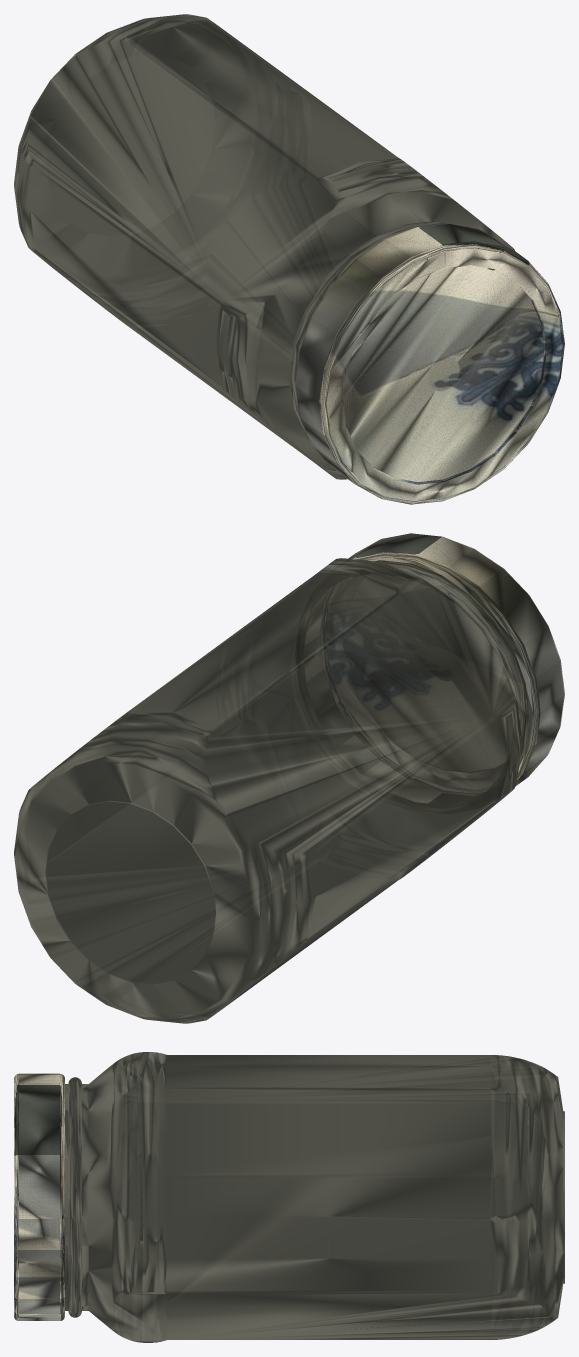
Rendered from model_align.obj.
3 renders of one model, top to bottom at view 1: azimuth 30°, elevation 25°; view 2: azimuth 150°, elevation 25°; view 3: azimuth 270°, elevation 25°, orthographic. The views are drawn at different scales.
Size of the model in its own units: 0.0679 by 0.0679 by 0.1263.
